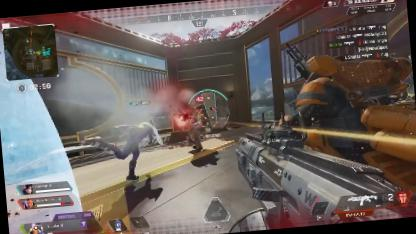Target: (290, 55, 414, 156), (92, 110, 166, 186), (180, 104, 200, 148)
